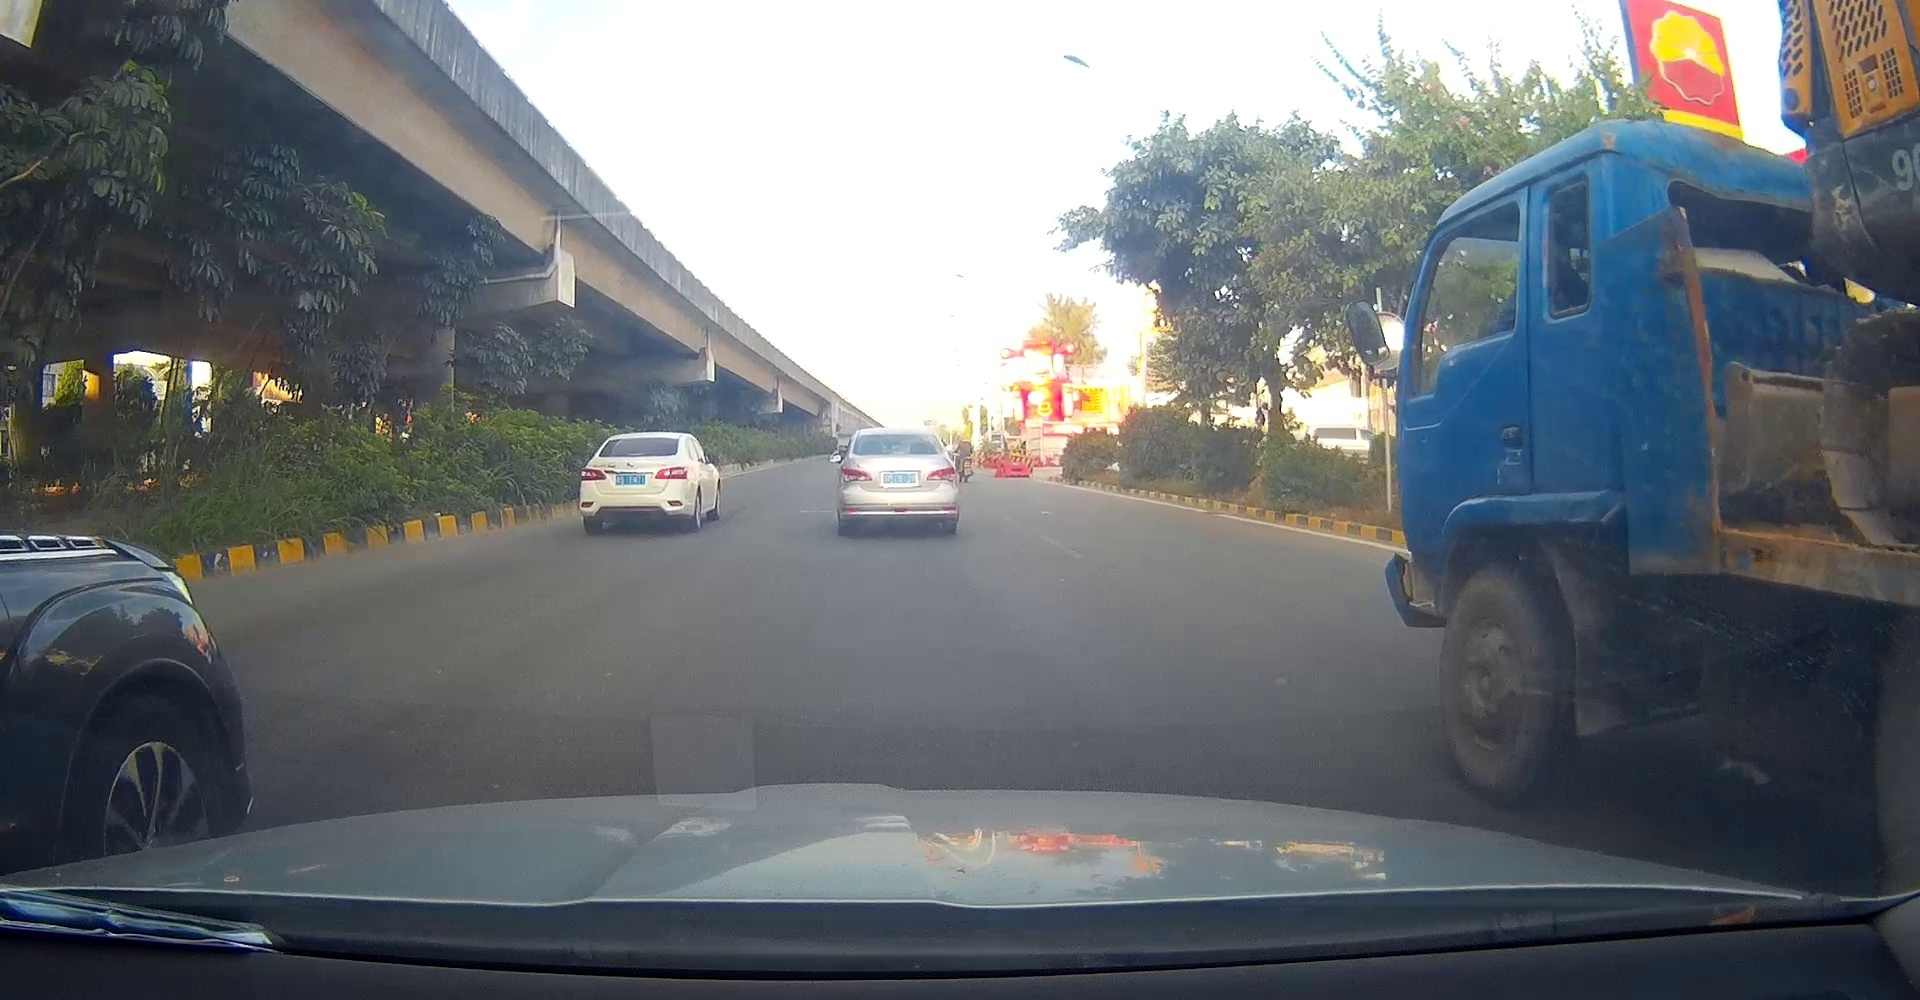L_light: (842, 468, 872, 484), (580, 467, 607, 480)
R_light: (927, 467, 957, 482), (655, 467, 688, 478)
T_light: (625, 451, 645, 456), (890, 451, 909, 456)
day-no: (841, 430, 957, 536), (578, 433, 697, 533)
